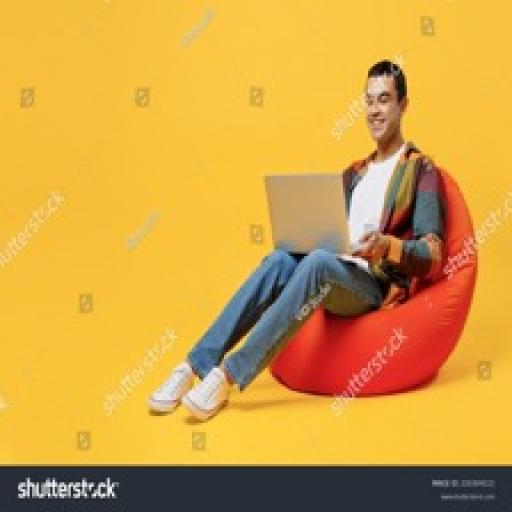human: (146, 54, 452, 422)
